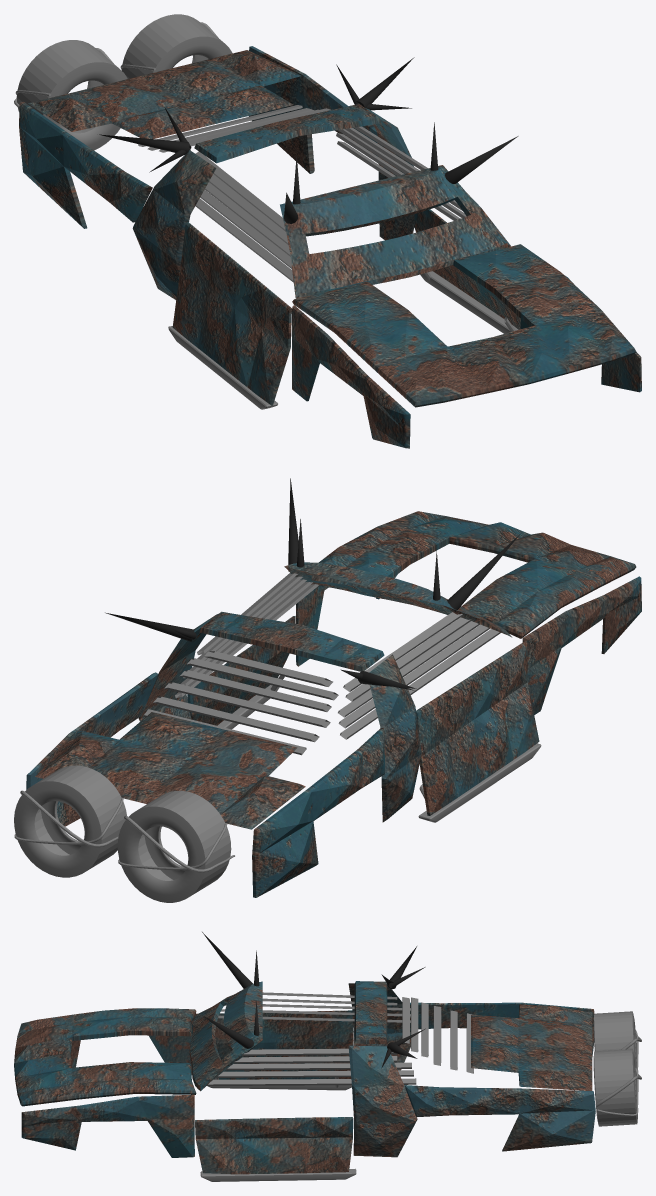
File: Just Armor Charger.obj
The picture shows the model from 3 angles, top to bottom: view 1: azimuth 30°, elevation 25°; view 2: azimuth 150°, elevation 25°; view 3: azimuth 270°, elevation 25°; orthographic projection. The views are drawn at different scales.
Parts seen in each view (by area): view 1: Armor Body Charger Panel_1_Geo, Armor Body Charger Panel_4_Geo, Armor Body Charger Windshield, Armor Body Charger Panel_6_Geo, Armor Body Charger Panel_7_Geo, Armor Body Charger Tire_Bumper_2 Spare_Tire01_Geo, Armor Body Charger Panel_5_Geo, Armor Body Charger Tire_Bumper Spare_Tire02_Geo, Armor Body Charger Panel_2_Geo, Armor Body Charger Panel_3_Geo, Platforms Armor Body Charger, Armor Body Charger Window_Panels Window_Panel__01_Geo (+10 smaller); view 2: Armor Body Charger Panel_4_Geo, Armor Body Charger Panel_7_Geo, Armor Body Charger Panel_1_Geo, Armor Body Charger Panel_6_Geo, Armor Body Charger Tire_Bumper_2 Spare_Tire01_Geo, Armor Body Charger Tire_Bumper Spare_Tire02_Geo, Armor Body Charger Panel_5_Geo, Armor Body Charger Panel_2_Geo, Armor Body Charger Windshield, Armor Body Charger Panel_3_Geo, Platforms Armor Body Charger, Armor Body Charger Window_Panels Window_Panel__14_Geo (+13 smaller); view 3: Armor Body Charger Panel_3_Geo, Armor Body Charger Panel_5_Geo, Armor Body Charger Panel_1_Geo, Armor Body Charger Panel_7_Geo, Armor Body Charger Panel_4_Geo, Armor Body Charger Windshield, Armor Body Charger Tire_Bumper Spare_Tire02_Geo, Armor Body Charger Panel_6_Geo, Armor Body Charger Panel_2_Geo, Platforms Armor Body Charger, Armor Body Charger Tire_Bumper_2 Spare_Tire01_Geo, Armor Body Charger Window_Panels Window_Panel__10_Geo (+13 smaller).
Part boxes in pixels (x1,y1,x2,y2): Armor Body Charger Panel_1_Geo: (292,244,636,407); Armor Body Charger Panel_4_Geo: (172,222,410,448); Armor Body Charger Windshield: (280,165,510,298); Armor Body Charger Panel_6_Geo: (19,102,216,299); Armor Body Charger Panel_7_Geo: (28,50,301,139); Armor Body Charger Tire_Bumper_2 Spare_Tire01_Geo: (16,40,127,150); Armor Body Charger Panel_5_Geo: (248,46,414,240); Armor Body Charger Tire_Bumper Spare_Tire02_Geo: (121,14,232,78); Armor Body Charger Panel_2_Geo: (194,104,381,163); Armor Body Charger Panel_3_Geo: (414,209,641,392); Platforms Armor Body Charger: (168,271,518,409); Armor Body Charger Window_Panels Window_Panel__01_Geo: (195,198,293,282); Armor Body Charger Panel_4_Geo: (416,576,641,815); Armor Body Charger Panel_7_Geo: (35,712,305,829); Armor Body Charger Panel_1_Geo: (318,511,636,638); Armor Body Charger Panel_6_Geo: (252,654,421,897); Armor Body Charger Tire_Bumper_2 Spare_Tire01_Geo: (117,790,231,902); Armor Body Charger Tire_Bumper Spare_Tire02_Geo: (14,765,126,877); Armor Body Charger Panel_5_Geo: (26,614,217,826); Armor Body Charger Panel_2_Geo: (199,611,384,671); Armor Body Charger Windshield: (284,562,512,637); Armor Body Charger Panel_3_Geo: (187,574,397,725); Platforms Armor Body Charger: (217,675,541,822); Armor Body Charger Window_Panels Window_Panel__14_Geo: (164,682,330,727); Armor Body Charger Panel_3_Geo: (21,1094,353,1174); Armor Body Charger Panel_5_Geo: (348,1045,595,1157); Armor Body Charger Panel_1_Geo: (14,1008,196,1106); Armor Body Charger Panel_7_Geo: (471,1004,592,1090); Armor Body Charger Panel_4_Geo: (70,1010,353,1079); Armor Body Charger Windshield: (189,981,262,1091); Armor Body Charger Tire_Bumper Spare_Tire02_Geo: (593,1049,637,1126); Armor Body Charger Panel_6_Geo: (348,983,594,1070); Armor Body Charger Panel_2_Geo: (354,981,387,1044); Platforms Armor Body Charger: (200,1077,356,1181); Armor Body Charger Tire_Bumper_2 Spare_Tire01_Geo: (593,1011,636,1079); Armor Body Charger Window_Panels Window_Panel__10_Geo: (207,1078,416,1085).
Size of the model in its own units: 2.38 by 1.57 by 5.54.
Materials: 5 (1 with a texture image).
